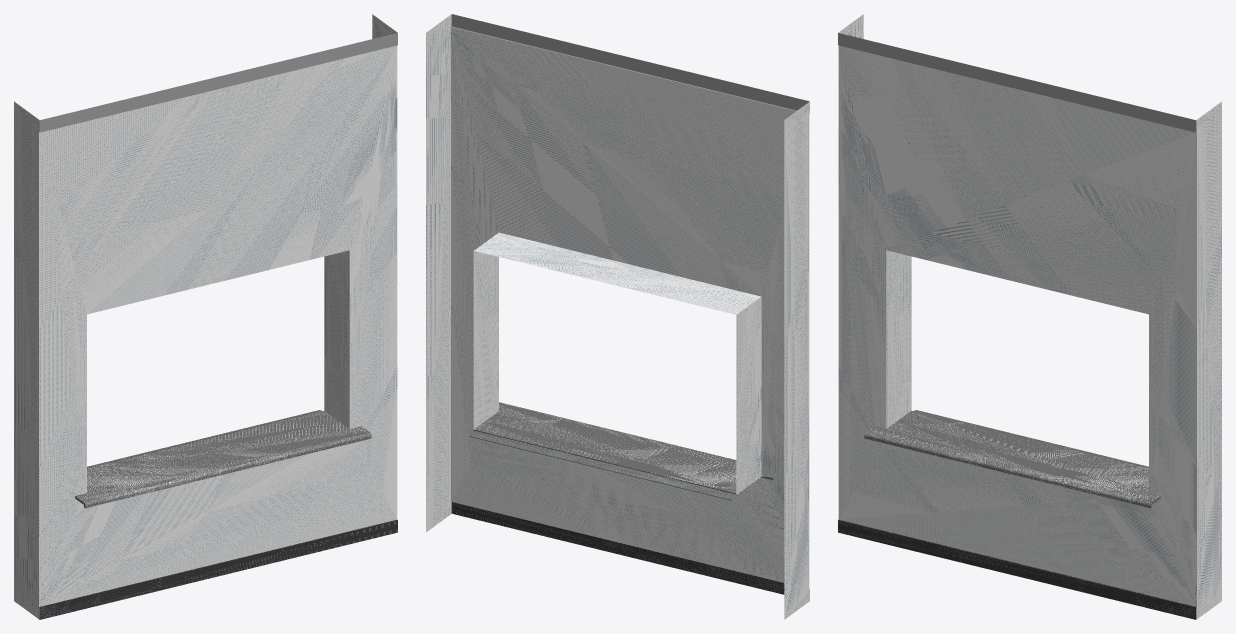
The model's file is WindowBlock_os_plinth_[300x400]_220x143x[090].dae.
3 renders of one model, left to right at view 1: azimuth 30°, elevation 25°; view 2: azimuth 150°, elevation 25°; view 3: azimuth 330°, elevation 25°, orthographic.
Visible parts, largest first — view 1: group_2 (×4), group_1 (×2); view 2: group_2 (×4), group_1 (×2); view 3: group_2 (×4), group_1 (×2).
Part boxes in pixels (x1,y1,x2,y2): group_2 (×4): [14, 14, 397, 619]; group_1 (×2): [75, 410, 371, 508]; group_2 (×4): [426, 14, 809, 619]; group_1 (×2): [469, 402, 773, 500]; group_2 (×4): [838, 14, 1221, 619]; group_1 (×2): [864, 410, 1160, 508].
Size of the model in its own units: 118 by 23.03 by 157.
